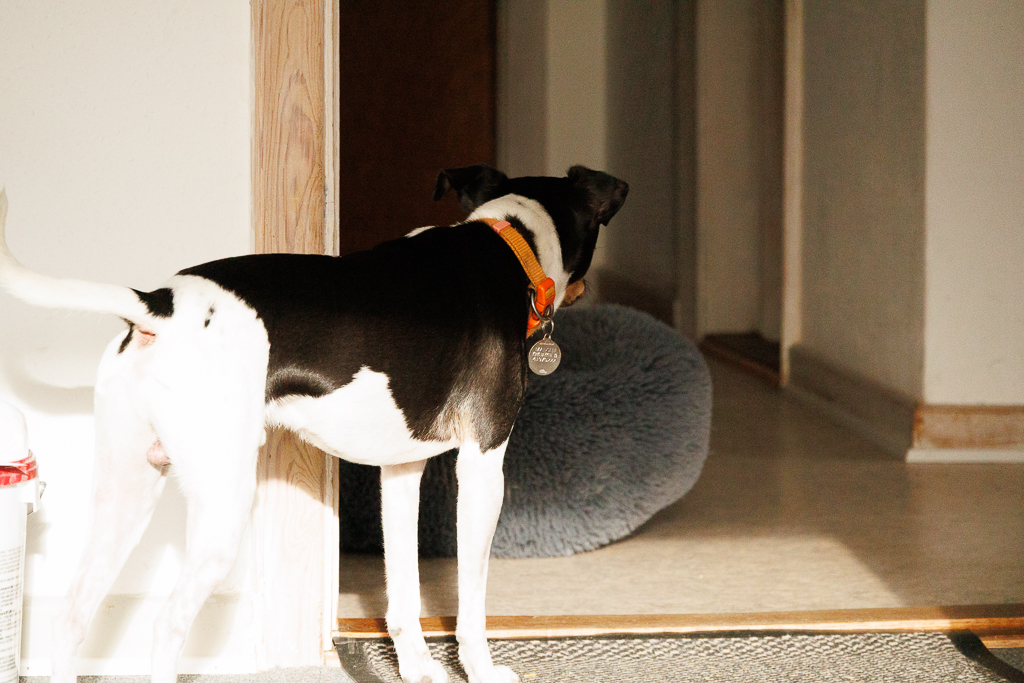Dog: (0, 158, 634, 683)
